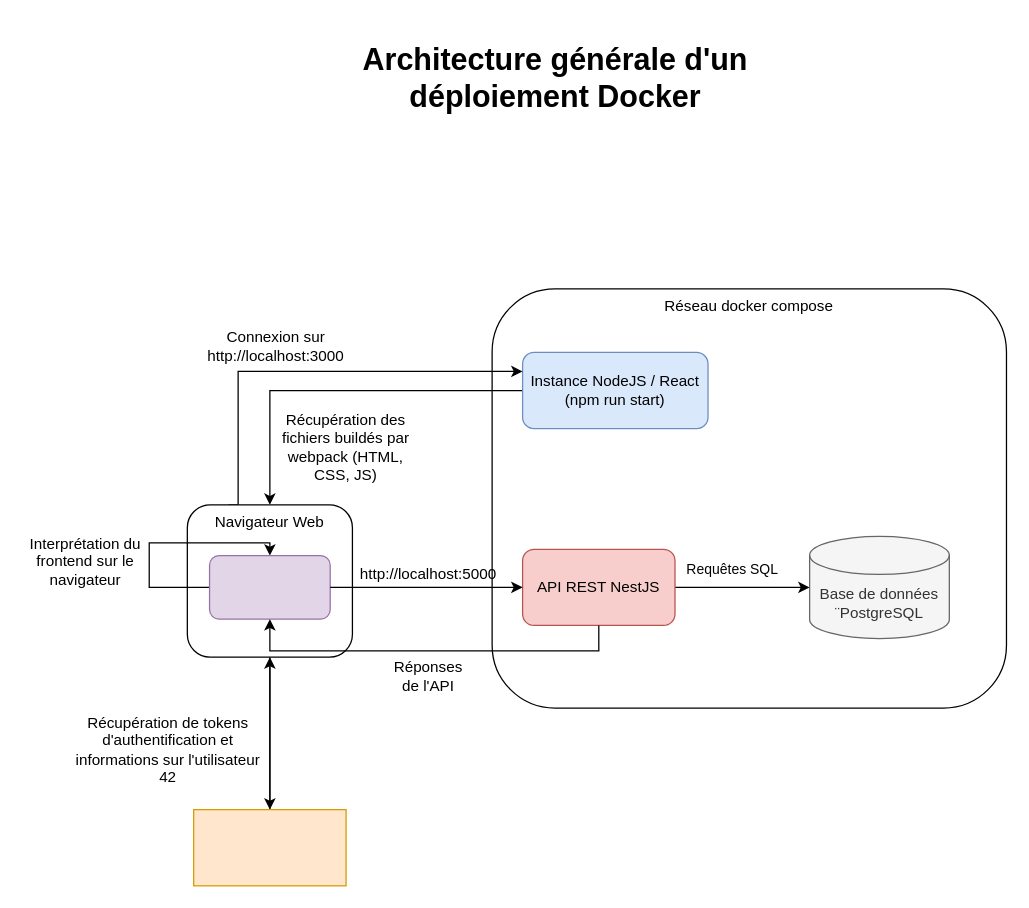
Some shapes in this 1029 by 908 pixel diagram are drawn without their labels. Each missing label, with the centre of its shape:
"Front-end" belongs at pixel 269 586.
"SSO 42 / API 42" belongs at pixel 269 847.
